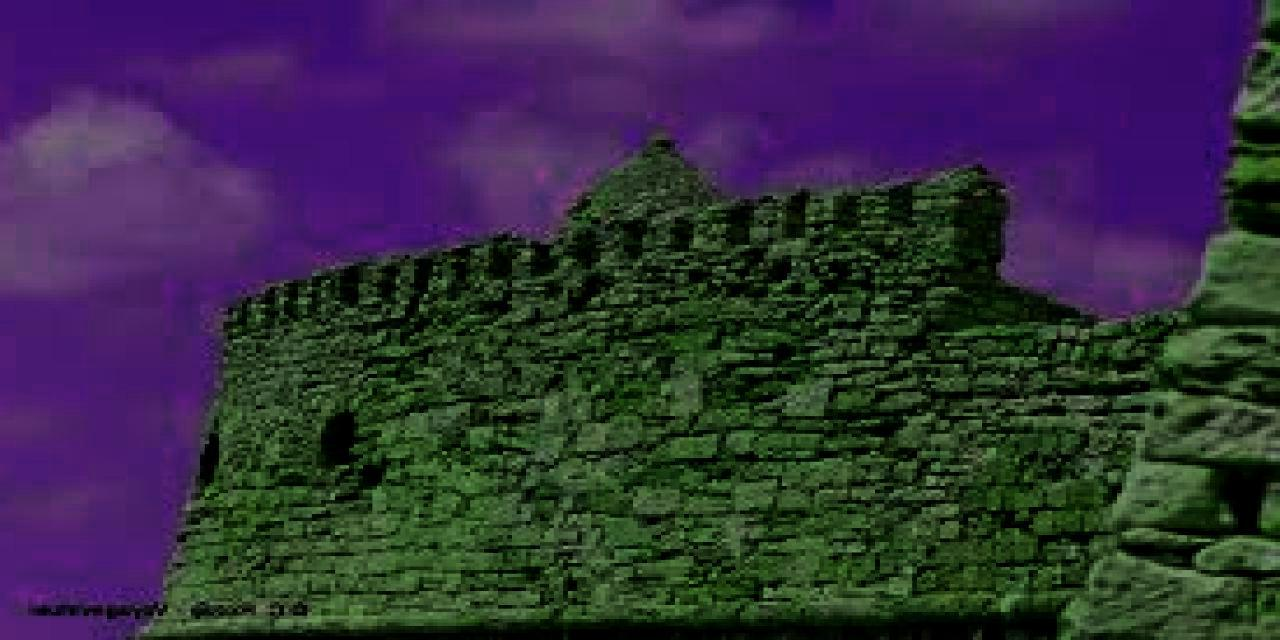Kules: (137, 161, 1280, 640)
